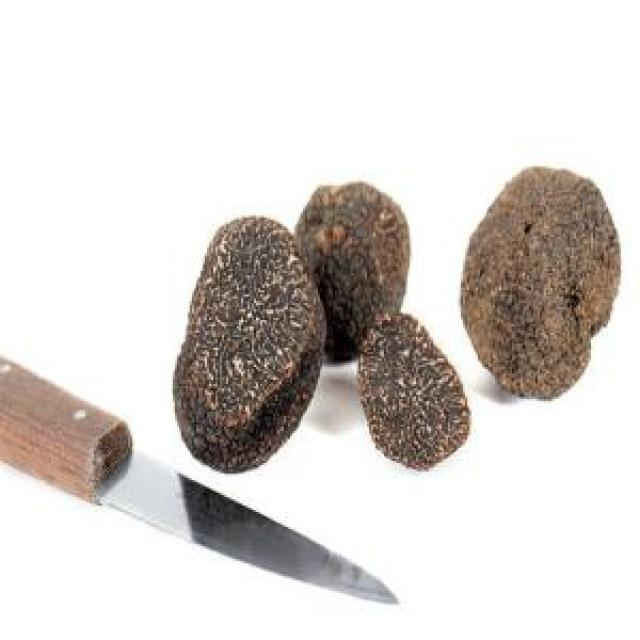knife: (2, 354, 401, 612)
